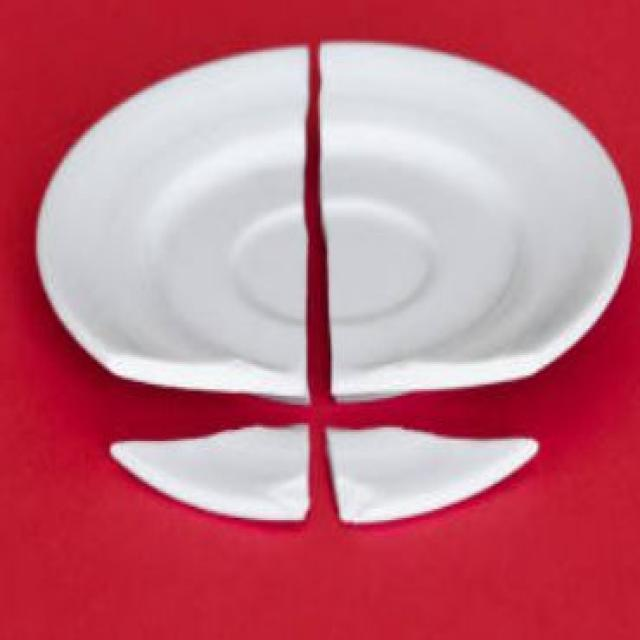electronic: (36, 43, 634, 403), (108, 423, 548, 536)
